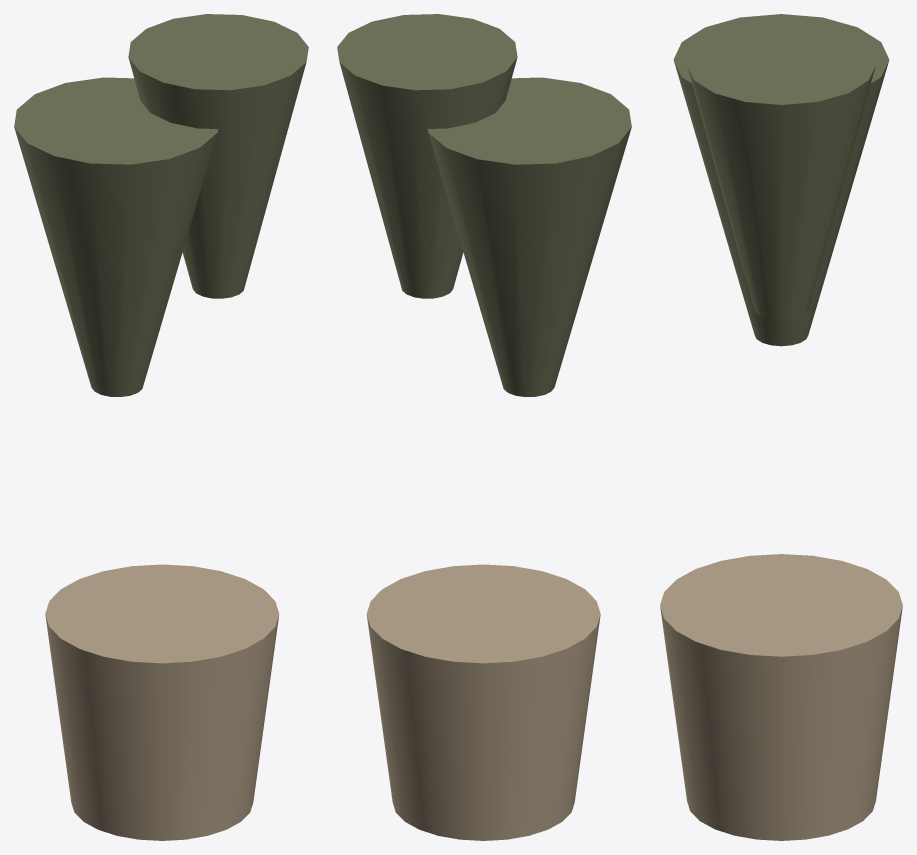
The model's file is indoor-plant.glb.
3 views of the same model, side by side, from view 1: azimuth 30°, elevation 25°; view 2: azimuth 150°, elevation 25°; view 3: azimuth 270°, elevation 25° (orthographic). The views are drawn at different scales.
Parts seen in each view (by area): view 1: planter, foliage_a, foliage_b; view 2: planter, foliage_a, foliage_b; view 3: planter, foliage_b, foliage_a.
Part boxes in pixels (x1,y1,x2,y2): planter: (45,564,279,840); foliage_a: (14,77,218,396); foliage_b: (128,14,308,298); planter: (366,564,600,840); foliage_a: (427,77,631,396); foliage_b: (337,14,517,298); planter: (660,554,902,840); foliage_b: (687,25,875,320); foliage_a: (673,14,889,346).
Size of the model in its own units: 0.48 by 1.25 by 0.36.
